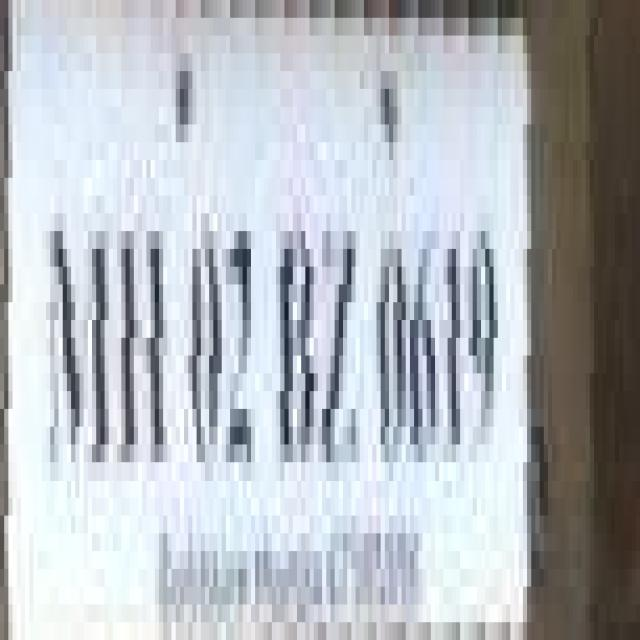plate: (0, 18, 598, 640)
